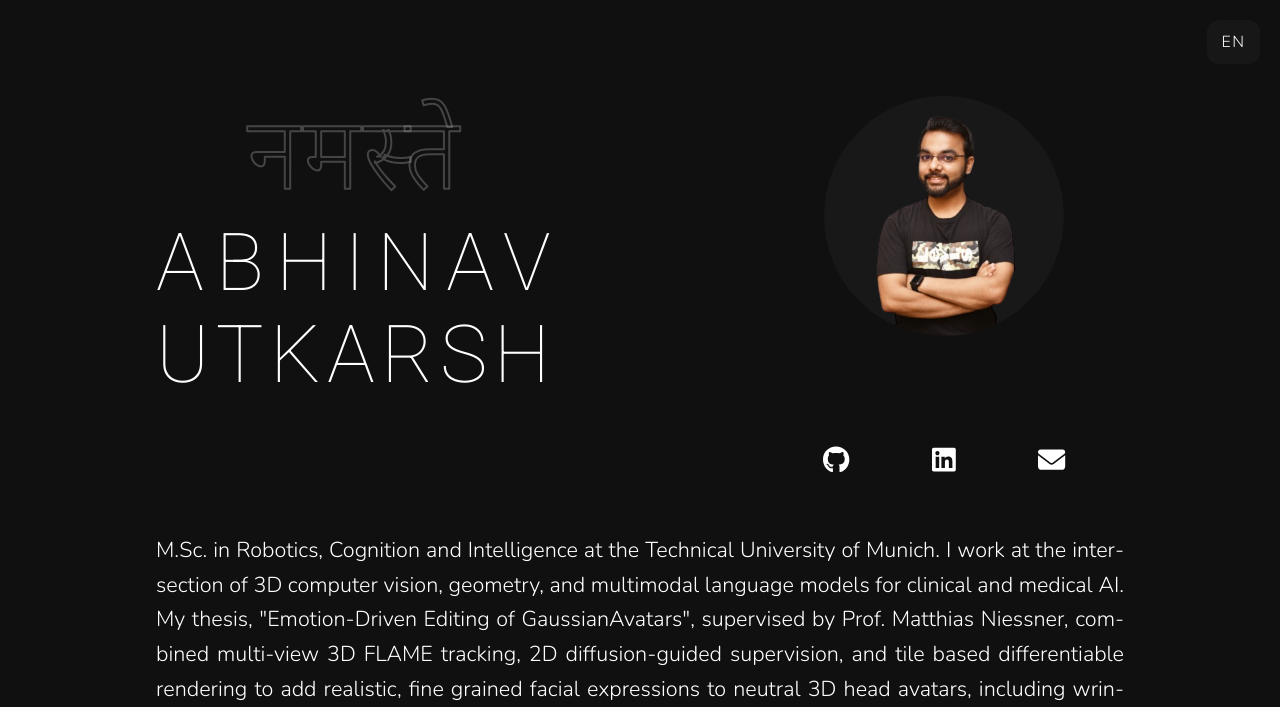
Test: toggle DE -> EN returns to the English page
Click the button with aria-label "Deutsch": (1234, 42) [1207, 20, 1260, 64]
Wait 400 ms
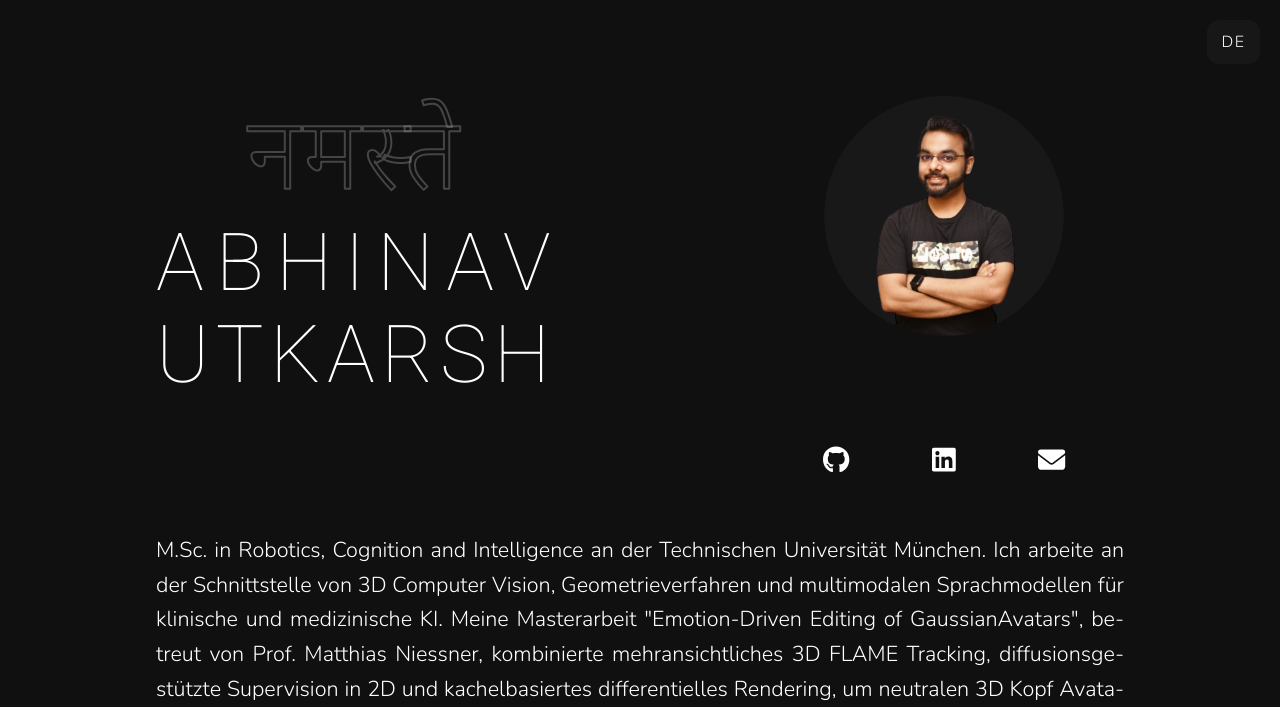
Click the button with aria-label "English": (1234, 42) [1207, 20, 1260, 64]
Wait 400 ms
(page scrolled)
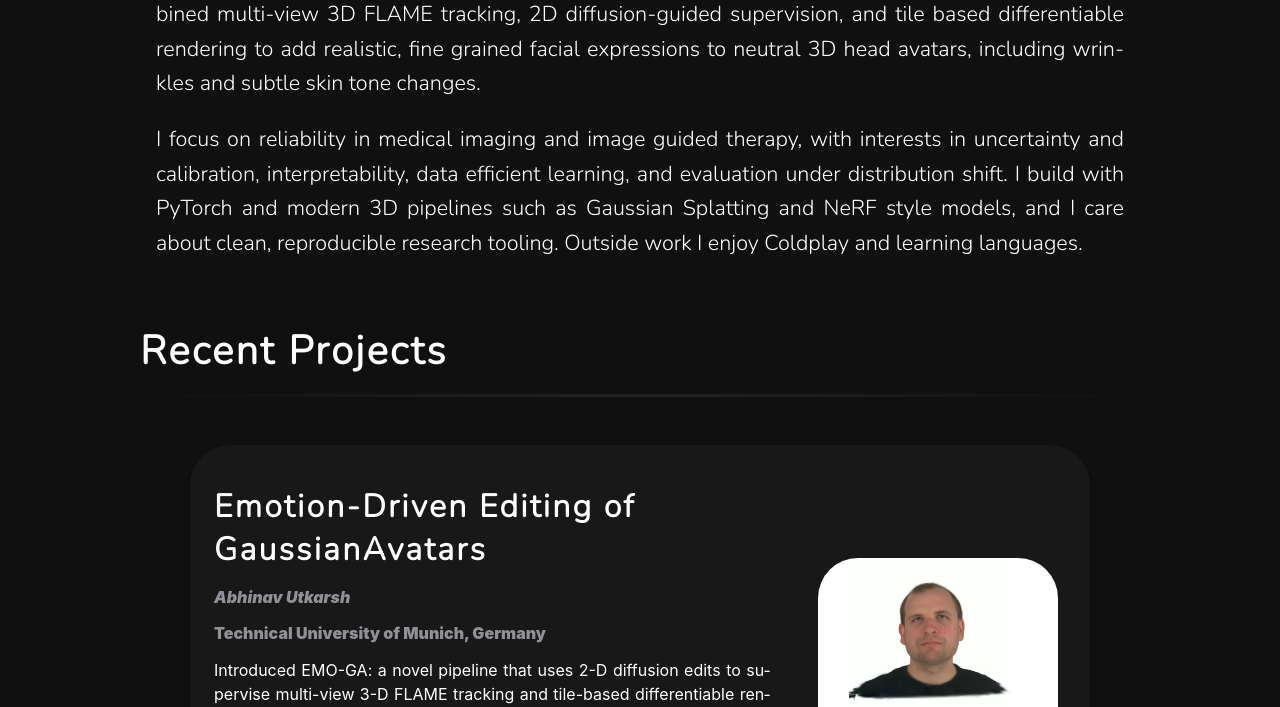
Expected: the heading "Recent Projects" is shown, [140, 324, 448, 378]
